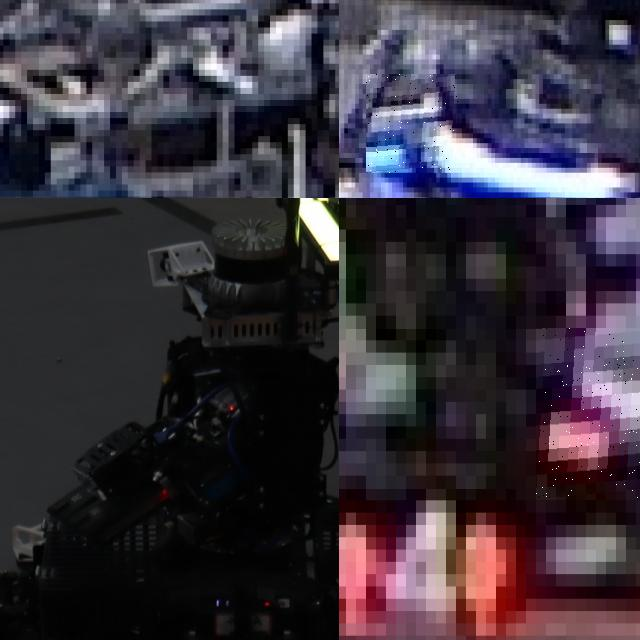B1: (366, 74, 458, 173)
R4: (339, 488, 536, 640), (536, 327, 640, 500)
